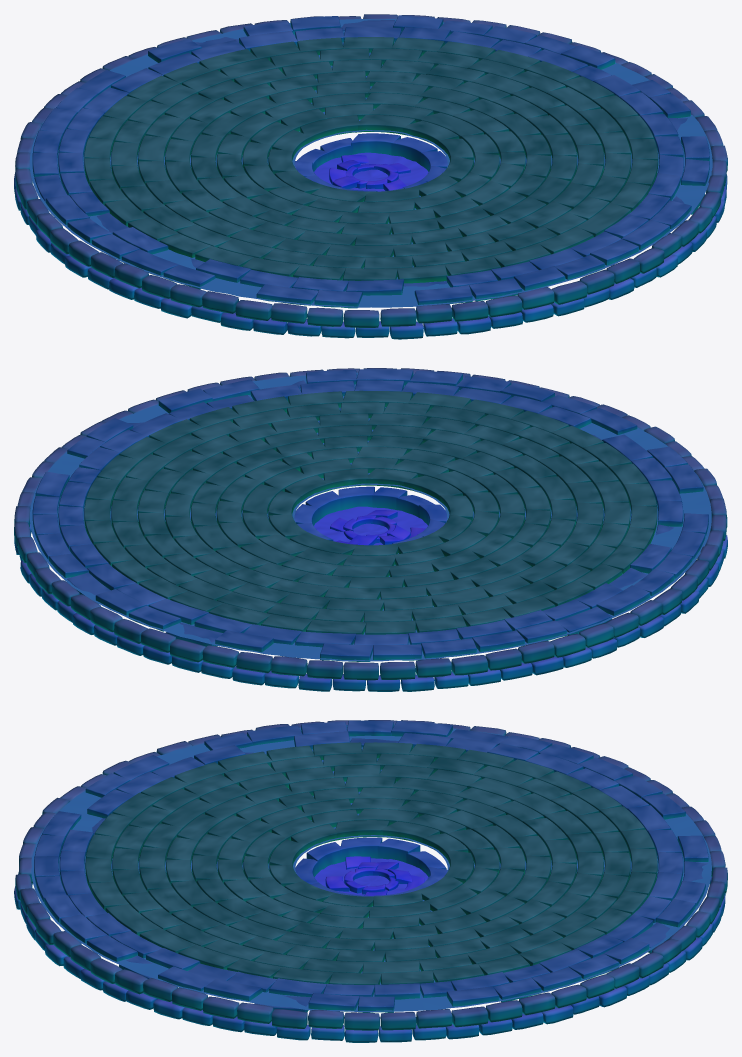
Rendered from causeway_disc.glb.
The picture shows the model from 3 angles, top to bottom: view 1: azimuth 30°, elevation 25°; view 2: azimuth 150°, elevation 25°; view 3: azimuth 270°, elevation 25°; orthographic projection.
Visible parts, largest first — view 1: causeway_disc; view 2: causeway_disc; view 3: causeway_disc.
Boxes of the visible parts, <box> form: causeway_disc: <box>14,14,727,339</box>; causeway_disc: <box>14,368,727,691</box>; causeway_disc: <box>14,720,727,1042</box>.
Size of what is drawn, in the model's own units: 31.81 by 1.67 by 31.88.
